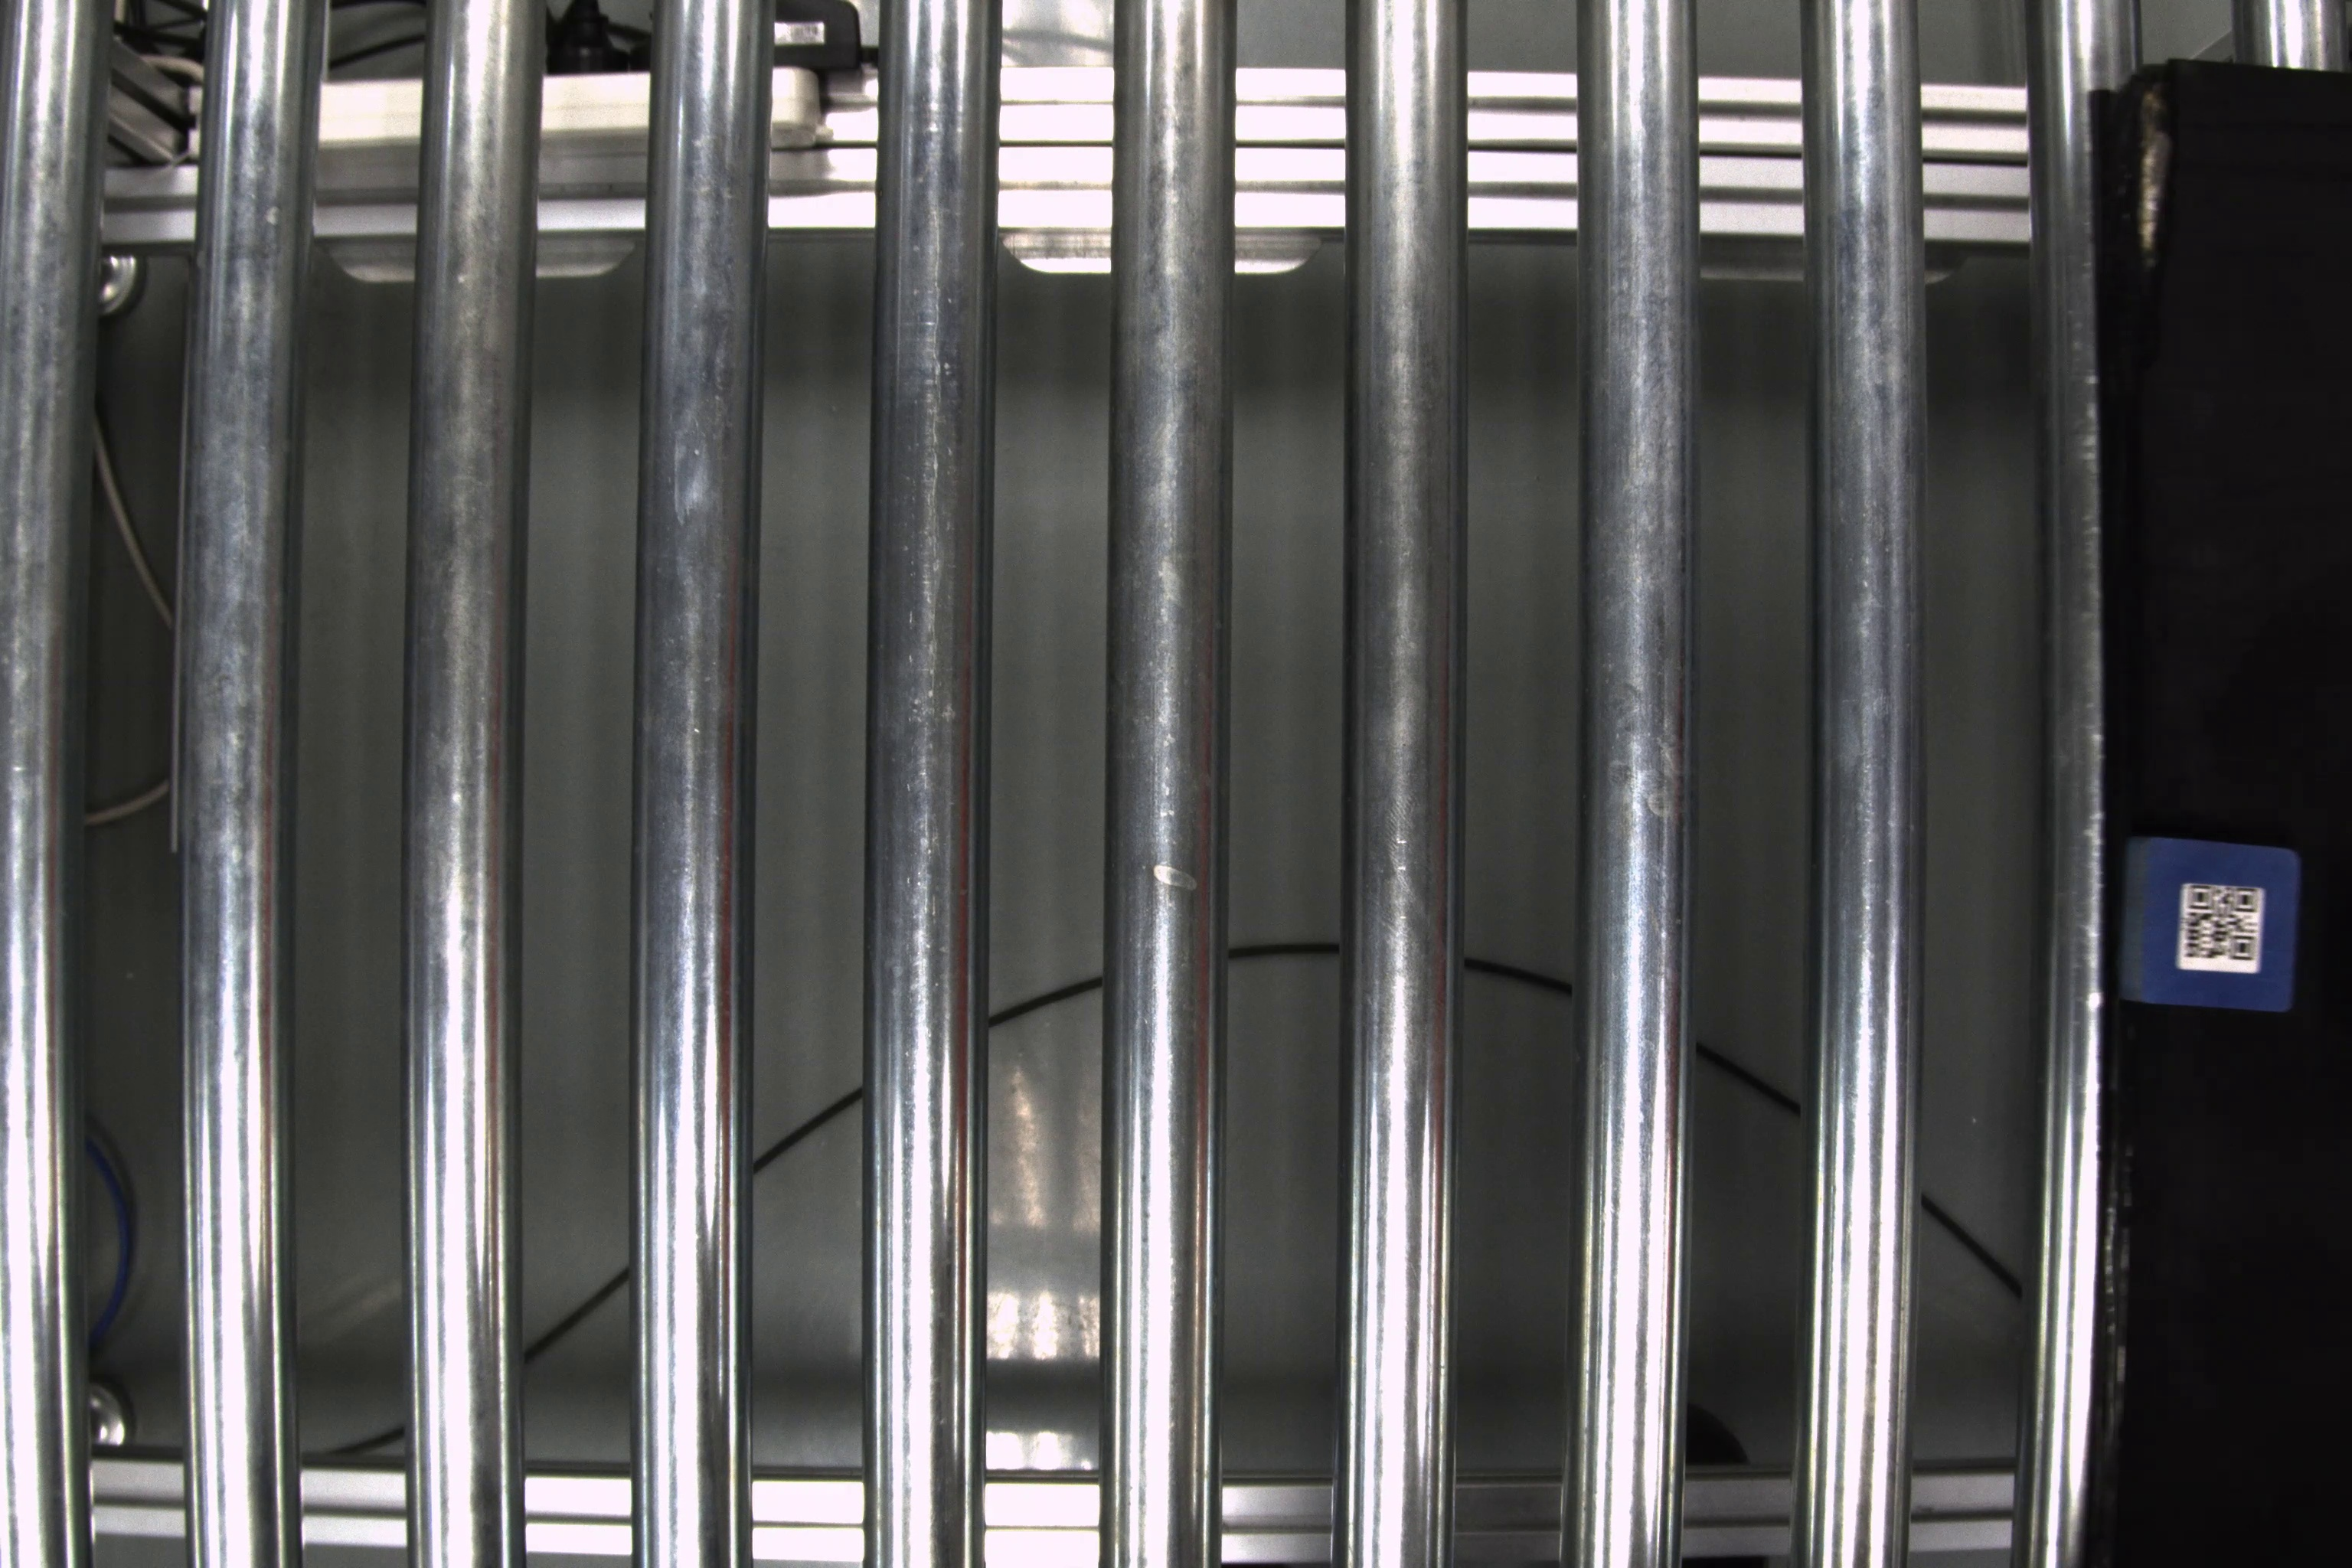wood: (2119, 829, 2303, 1018)
